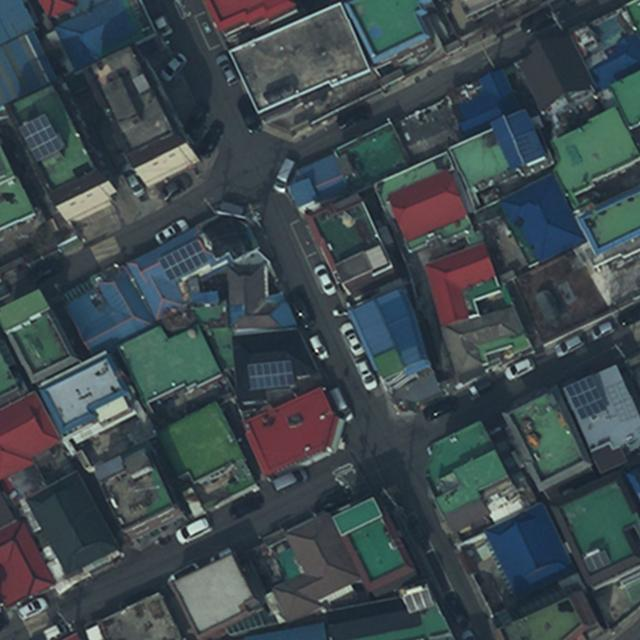panel: (156, 238, 209, 282), (17, 111, 62, 160), (566, 374, 608, 419), (246, 358, 294, 389), (402, 587, 434, 614), (582, 548, 612, 572)
